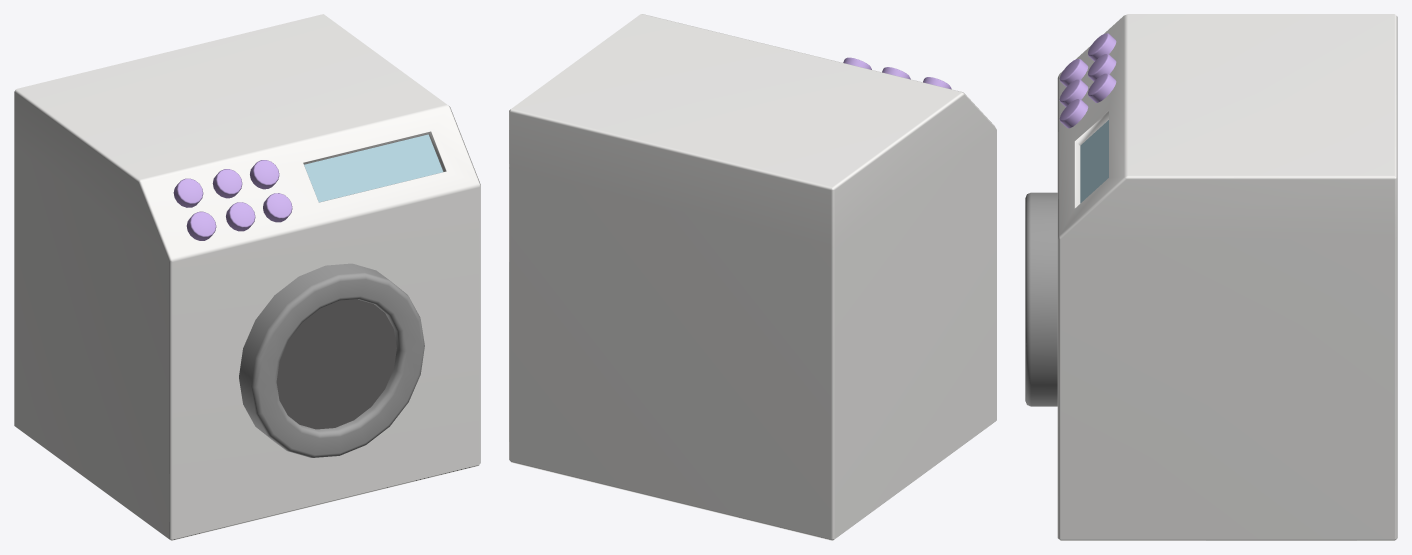
File: Drying_machine_1.glb
The picture shows the model from 3 angles, left to right: view 1: azimuth 30°, elevation 25°; view 2: azimuth 150°, elevation 25°; view 3: azimuth 270°, elevation 25°; orthographic projection. The views are drawn at different scales.
Parts seen in each view (by area): view 1: Drying_machine_1; view 2: Drying_machine_1; view 3: Drying_machine_1.
Boxes of the visible parts, left/top/right/bottom form: Drying_machine_1: left=14, top=14, right=480, bottom=540; Drying_machine_1: left=509, top=14, right=996, bottom=540; Drying_machine_1: left=1025, top=14, right=1397, bottom=540.
Size of the model in its own units: 1.02 by 1.05 by 0.9742.
1 material, 1 textured.
